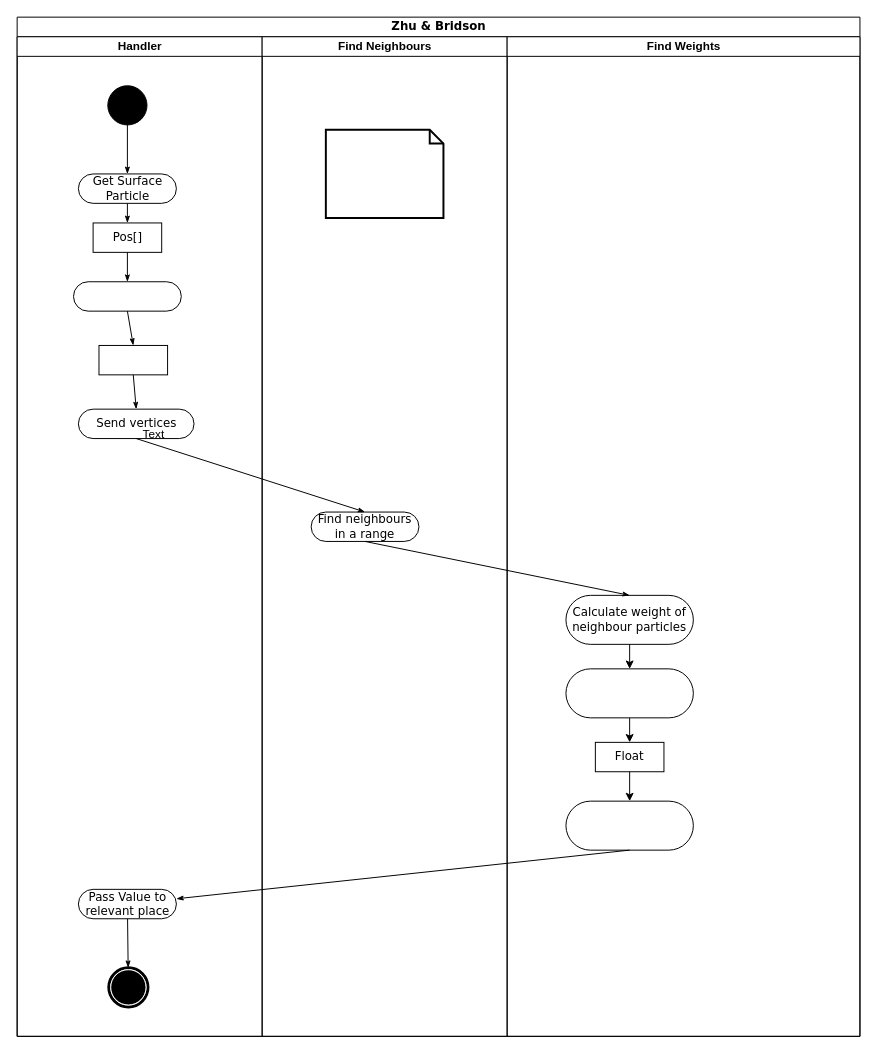
The diagram is 877 pixels wide and 1054 high, and some of its shapes have lost their labels. Each missing label, with the centre of its shape:
Calculate scalar formula: the point at 629,693
Find surface vertices: the point at 127,296
Note: the point at 384,173
Send Constant: the point at 629,825
Vertices[]: the point at 133,359
